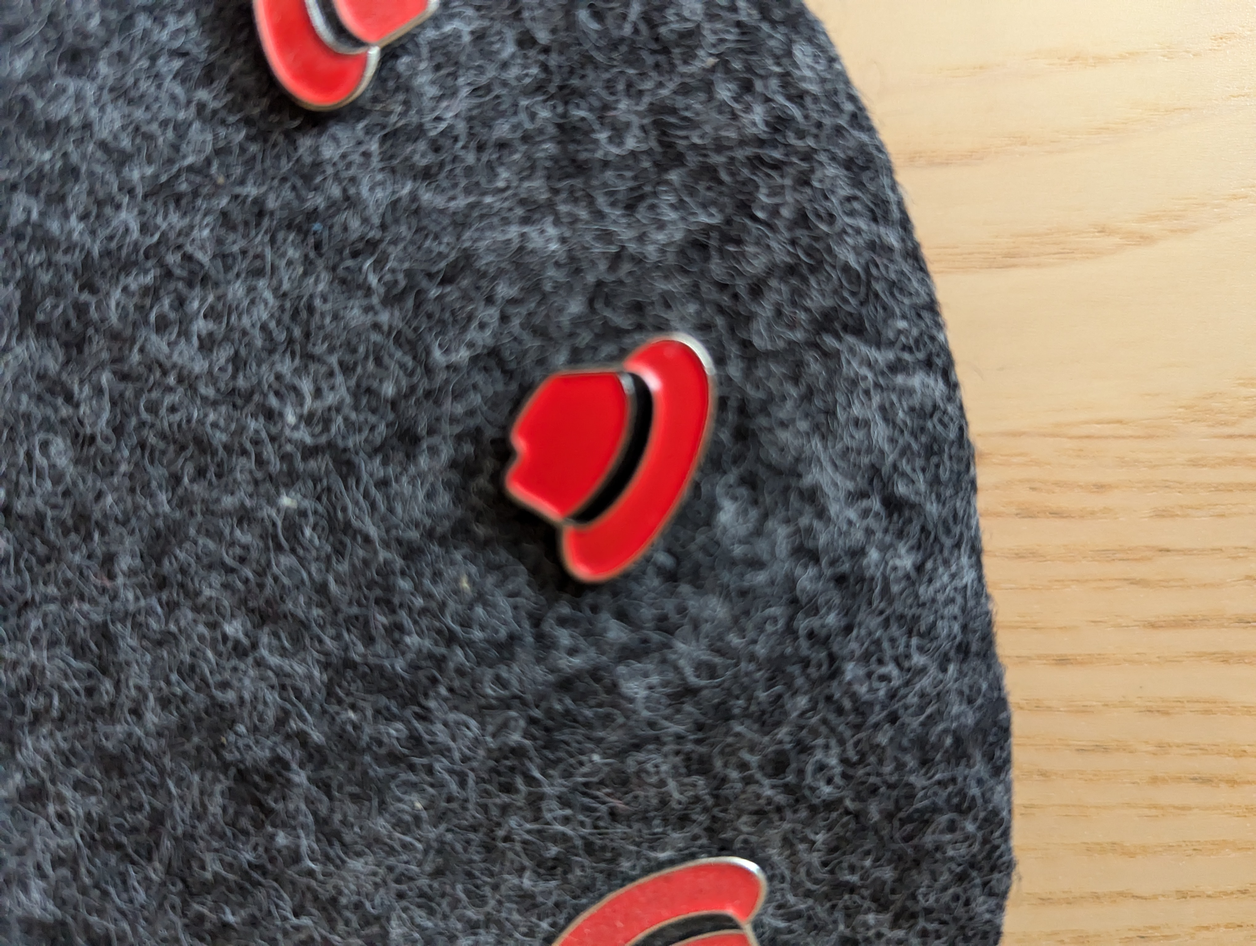Red-Hat: (441, 281, 809, 610), (488, 813, 796, 946), (222, 0, 470, 146)
